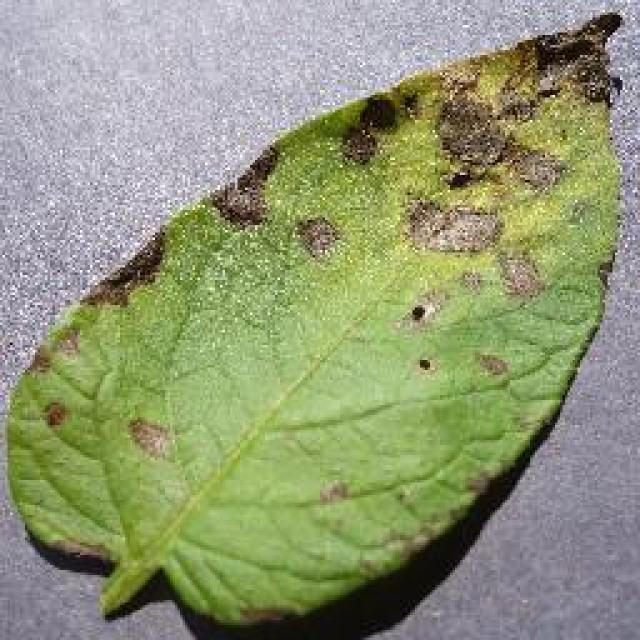Potato: (3, 8, 625, 630)
